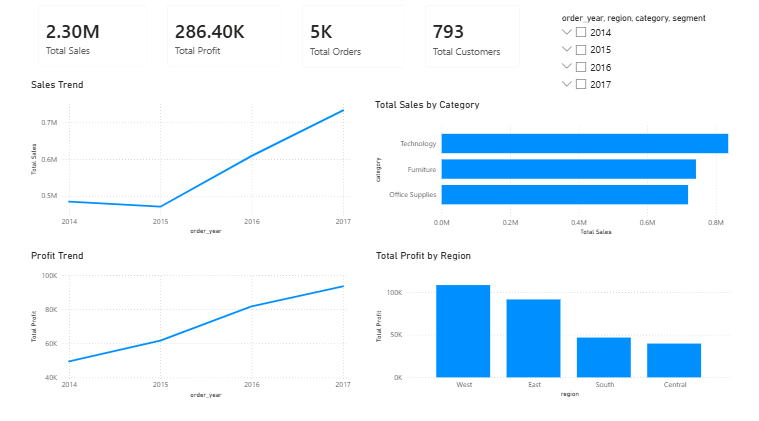

Layout of this report page (visuals, bound fields, positions):
{"tool":"powerbi","page":{"name":"Executive Overview","canvas":[1280,720],"ordinal":0},"visuals":[{"type":"cardVisual","fields":{"Data":["Measures (2).Total Sales"]},"box":[48.3,0,216.7,137.7],"z":0},{"type":"cardVisual","fields":{"Data":["Measures (2).Total Customers"]},"box":[698,0,193.2,139.4],"z":1000},{"type":"cardVisual","fields":{"Data":["Measures (2).Total Profit"]},"box":[264.9,0,226.8,137.7],"z":2000},{"type":"cardVisual","fields":{"Data":["Measures (2).Total Orders"]},"box":[491.7,0,206.6,139.4],"z":3000},{"type":"slicer","fields":{"Values":["Global_Superstore_cleaned.order_year","Global_Superstore_cleaned.region","Global_Superstore_cleaned.category","Global_Superstore_cleaned.segment"]},"box":[932.2,24.9,301.5,147.8],"z":4000},{"type":"lineChart","title":"Sales Trend","fields":{"Category":["Global_Superstore_cleaned.order_year"],"Y":["Measures (2).Total Sales"]},"box":[48.3,139,547.3,267.8],"z":5000},{"type":"clusteredBarChart","title":"Total Sales by Category","fields":{"Category":["Global_Superstore_cleaned.category"],"Y":["Measures (2).Total Sales"]},"box":[626.3,172.7,654.1,235.6],"z":6000},{"type":"clusteredColumnChart","title":"Total Profit by Region","fields":{"Category":["Global_Superstore_cleaned.region"],"Y":["Measures (2).Total Profit"]},"box":[627.8,425.9,607.3,254.6],"z":7000},{"type":"lineChart","title":"Profit Trend","fields":{"Y":["Measures (2).Total Profit"],"Category":["Global_Superstore_cleaned.order_year"]},"box":[48.3,425.9,547,255],"z":8000}]}

Visuals, with their boxes in screenshot pixels (x1, y1, x2, y2), scaled from the page's 1280x720 canvas onto the 759x421 screenshot:
cardVisual - Measures (2).Total Sales: box=[29, 0, 157, 81]
cardVisual - Measures (2).Total Customers: box=[414, 0, 528, 82]
cardVisual - Measures (2).Total Profit: box=[157, 0, 292, 81]
cardVisual - Measures (2).Total Orders: box=[292, 0, 414, 82]
slicer - Global_Superstore_cleaned.order_year x Global_Superstore_cleaned.region: box=[553, 15, 732, 101]
"Sales Trend" lineChart: box=[29, 81, 353, 238]
"Total Sales by Category" clusteredBarChart: box=[371, 101, 758, 239]
"Total Profit by Region" clusteredColumnChart: box=[372, 249, 732, 398]
"Profit Trend" lineChart: box=[29, 249, 353, 398]
